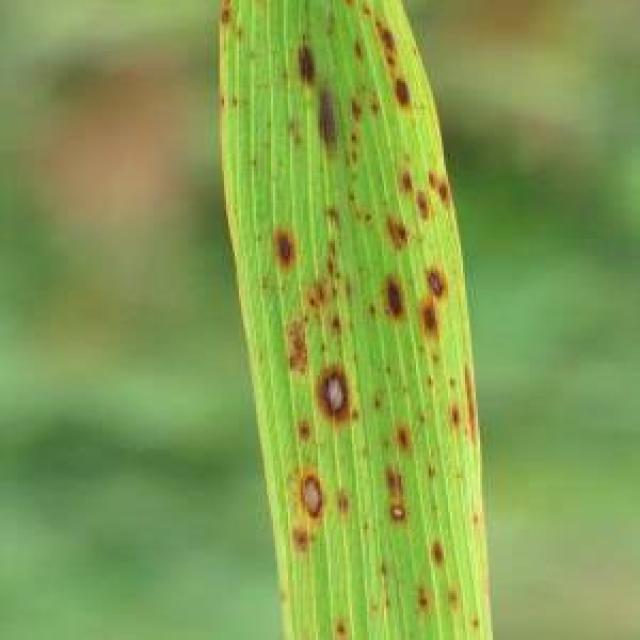Brown_Spot: (307, 230, 360, 346), (310, 357, 358, 428), (279, 286, 316, 366), (307, 84, 346, 156), (366, 21, 408, 80), (419, 166, 462, 218), (288, 40, 328, 94), (296, 458, 328, 519), (284, 519, 323, 566), (379, 79, 428, 113), (376, 276, 408, 318), (272, 228, 302, 262), (419, 267, 448, 302), (394, 162, 423, 195), (386, 423, 416, 453), (412, 191, 437, 224), (386, 218, 414, 246), (443, 400, 463, 434), (337, 490, 355, 524), (430, 534, 446, 570), (414, 588, 432, 618), (332, 622, 360, 638), (419, 303, 435, 328), (387, 504, 403, 527), (440, 587, 460, 604), (471, 616, 490, 630)
